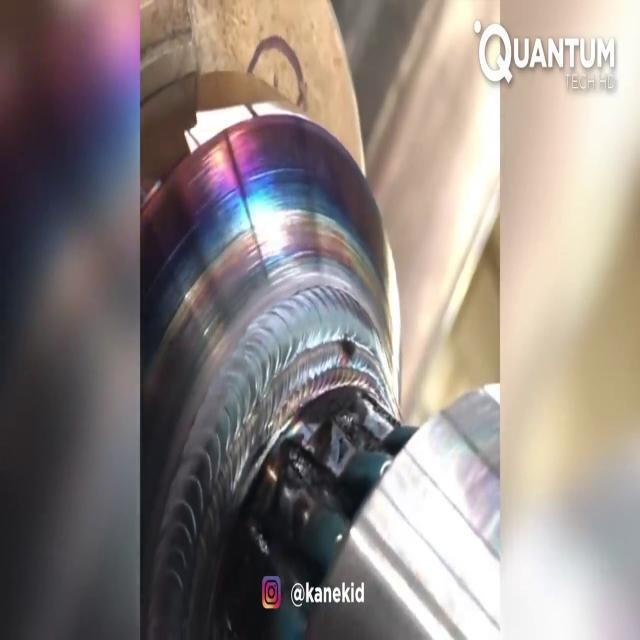Good Welding: (141, 116, 405, 638)
